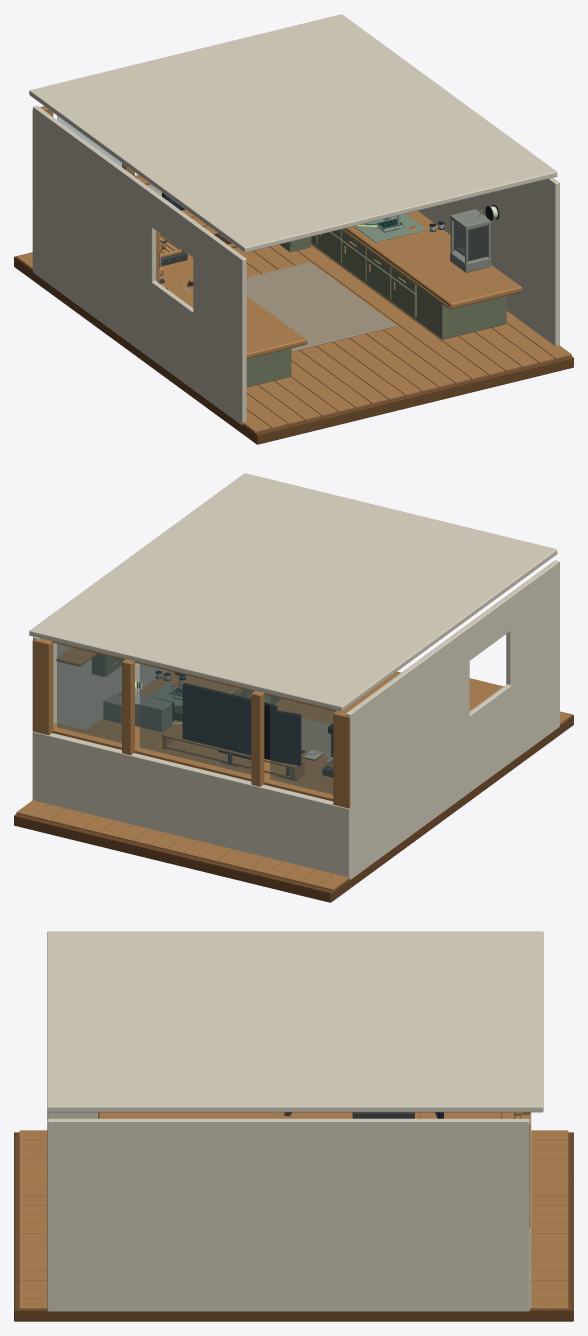
The model's file is command-center-warm.glb.
3 renders of one model, top to bottom at view 1: azimuth 30°, elevation 25°; view 2: azimuth 150°, elevation 25°; view 3: azimuth 270°, elevation 25°, orthographic. The views are drawn at different scales.
Parts seen in each view (by area): view 1: room__Warm workshop cream plaster, wood__Warm workshop cream plaster, room__Warm workshop natural oak, lab__Warm workshop cream plaster, room__Warm workshop olive cabinetry, room__Warm workshop woven flax, room__Walnut · console and drawer fronts, lab__Warm workshop natural oak, wood__Warm workshop natural oak, printer__Ivory instrument plastic, printer__Graphite powder coat, lab__Warm workshop sage silicone; view 2: room__Warm workshop cream plaster, wood__Warm workshop cream plaster, room__Warm workshop natural oak, room__Optical cockpit window glass, room__Walnut · console and drawer fronts, computer__Rubber / black plastic, lab__Optical cockpit window glass, wood__Optical cockpit window glass, lab__Warm workshop natural oak, lab__Warm workshop cream plaster, wood__Warm workshop natural oak, lab__Ivory instrument plastic (+1 smaller); view 3: lab__Warm workshop cream plaster, room__Warm workshop cream plaster, room__Warm workshop natural oak, room__Walnut · console and drawer fronts, wood__Warm workshop natural oak.
Part boxes in pixels (<box>): room__Warm workshop cream plaster: <box>29,14,557,269</box>; wood__Warm workshop cream plaster: <box>33,105,246,424</box>; room__Warm workshop natural oak: <box>16,163,571,432</box>; lab__Warm workshop cream plaster: <box>418,178,559,345</box>; room__Warm workshop olive cabinetry: <box>246,229,506,387</box>; room__Warm workshop woven flax: <box>246,262,396,351</box>; room__Walnut · console and drawer fronts: <box>14,252,573,444</box>; lab__Warm workshop natural oak: <box>343,211,521,308</box>; wood__Warm workshop natural oak: <box>32,106,306,358</box>; printer__Ivory instrument plastic: <box>450,209,491,272</box>; printer__Graphite powder coat: <box>454,222,488,260</box>; lab__Warm workshop sage silicone: <box>353,213,426,242</box>; room__Warm workshop cream plaster: <box>29,473,557,877</box>; wood__Warm workshop cream plaster: <box>346,560,559,879</box>; room__Warm workshop natural oak: <box>16,659,571,890</box>; room__Optical cockpit window glass: <box>139,664,253,774</box>; room__Walnut · console and drawer fronts: <box>14,671,573,902</box>; computer__Rubber / black plastic: <box>182,683,301,765</box>; lab__Optical cockpit window glass: <box>57,643,125,743</box>; wood__Optical cockpit window glass: <box>270,695,335,794</box>; lab__Warm workshop natural oak: <box>32,638,241,749</box>; lab__Warm workshop cream plaster: <box>33,636,167,729</box>; wood__Warm workshop natural oak: <box>265,678,503,808</box>; lab__Ivory instrument plastic: <box>103,693,182,732</box>; lab__Warm workshop cream plaster: <box>47,1118,529,1311</box>; room__Warm workshop cream plaster: <box>47,931,543,1308</box>; room__Warm workshop natural oak: <box>19,1112,568,1309</box>; room__Walnut · console and drawer fronts: <box>14,1132,573,1321</box>; wood__Warm workshop natural oak: <box>98,1112,451,1118</box>.
Size of the model in its own units: 7.62 by 4.26 by 10.1.
29 materials, 7 textured.
